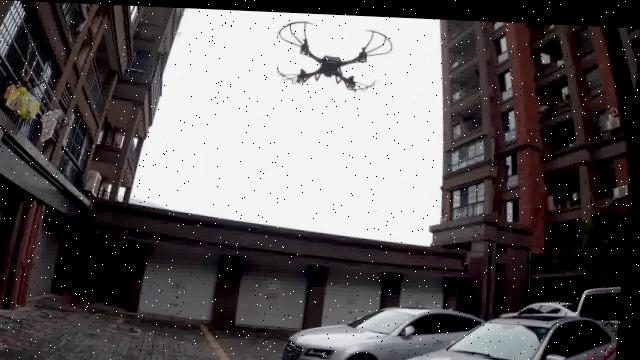drone: (273, 10, 394, 104)
